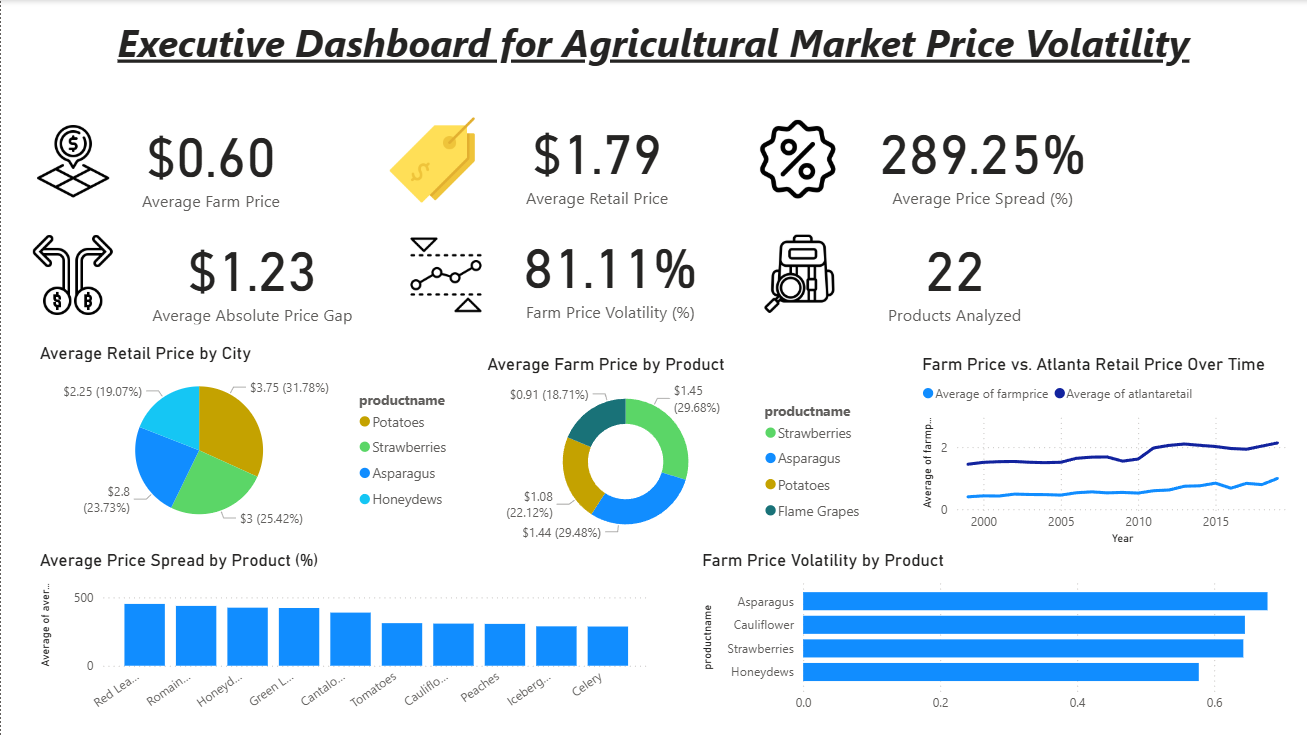

This screenshot's page, from the dashboard's own definition file:
{"tool":"powerbi","page":{"name":"Executive Dashboard","canvas":[1280,720],"ordinal":6},"visuals":[{"type":"textbox","box":[9.6,11,1257,63.1],"z":0},{"type":"card","fields":{"Values":["ProductPriceIndex.Average Farm Price"]},"box":[141.8,99,149.2,112.5],"z":1000},{"type":"card","fields":{"Values":["ProductPriceIndex.Average Retail Price"]},"box":[499.5,98.8,168.8,112.5],"z":2000},{"type":"card","fields":{"Values":["ProductPriceIndex.Average Price Spread (%)"]},"box":[853.5,98.8,214.1,112.5],"z":3000},{"type":"card","fields":{"Values":["ProductPriceIndex.Average Absolute Price Gap"]},"box":[141.3,216.8,208.6,105.7],"z":4000},{"type":"card","fields":{"Values":["ProductPriceIndex.Farm Price Volatility (%)"]},"box":[499.5,214.1,194.9,105.7],"z":5000},{"type":"card","fields":{"Values":["ProductPriceIndex.Products Analyzed"]},"box":[853.5,214.1,159.2,111.1],"z":6000},{"type":"pieChart","title":"Average Retail Price by City","fields":{"Category":["ProductPriceIndex.productname"],"Y":["ProductPriceIndex.Average Retail Price"]},"box":[33,335.1,606.5,192],"z":7000},{"type":"donutChart","title":"Average Farm Price by Product","fields":{"Category":["ProductPriceIndex.productname"],"Y":["ProductPriceIndex.Average Farm Price"]},"box":[681.1,335.1,585.7,192],"z":8000},{"type":"clusteredColumnChart","title":"Average Price Spread by Product (%)","fields":{"Category":["ProductPriceIndex.productname"],"Y":["Avg(ProductPriceIndex.averagespread)"]},"box":[32.9,537.9,606.5,167.4],"z":10000},{"type":"clusteredBarChart","title":"Farm Price Volatility by Product","fields":{"Category":["ProductPriceIndex.productname"],"Y":["Sum(ProductPriceIndex.farmprice)"]},"box":[680.6,537.9,585.9,167.4],"z":11000},{"type":"image","box":[723.2,223.7,116.6,87.8],"z":12000},{"type":"image","box":[9.6,223.7,120.8,90.6],"z":13000},{"type":"image","box":[370.5,219.6,129,97.4],"z":14000},{"type":"image","box":[11,112.5,119.4,90.6],"z":15000},{"type":"image","box":[359.5,109.8,124.9,93.3],"z":16000},{"type":"image","box":[723.2,112.5,113.9,86.4],"z":17000}]}

Visuals, with their boxes in screenshot pixels (x1, y1, x2, y2), scaled from the page's 1280x720 canvas onto the 1307x735 screenshot:
textbox: box=[10, 11, 1293, 76]
card - ProductPriceIndex.Average Farm Price: box=[145, 101, 297, 216]
card - ProductPriceIndex.Average Retail Price: box=[510, 101, 682, 216]
card - ProductPriceIndex.Average Price Spread (%): box=[872, 101, 1090, 216]
card - ProductPriceIndex.Average Absolute Price Gap: box=[144, 221, 357, 329]
card - ProductPriceIndex.Farm Price Volatility (%): box=[510, 219, 709, 326]
card - ProductPriceIndex.Products Analyzed: box=[872, 219, 1034, 332]
"Average Retail Price by City" pieChart: box=[34, 342, 653, 538]
"Average Farm Price by Product" donutChart: box=[695, 342, 1294, 538]
"Average Price Spread by Product (%)" clusteredColumnChart: box=[34, 549, 653, 720]
"Farm Price Volatility by Product" clusteredBarChart: box=[695, 549, 1293, 720]
image: box=[738, 228, 858, 318]
image: box=[10, 228, 133, 321]
image: box=[378, 224, 510, 324]
image: box=[11, 115, 133, 207]
image: box=[367, 112, 495, 207]
image: box=[738, 115, 855, 203]
